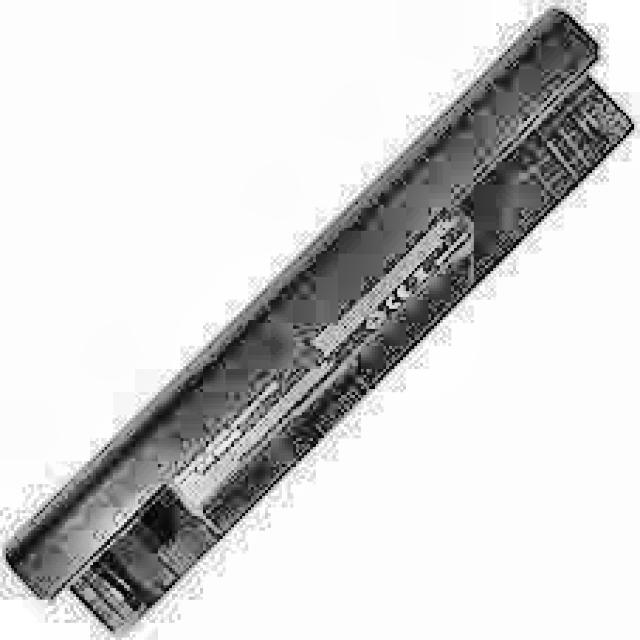Battery: (9, 15, 632, 637)
